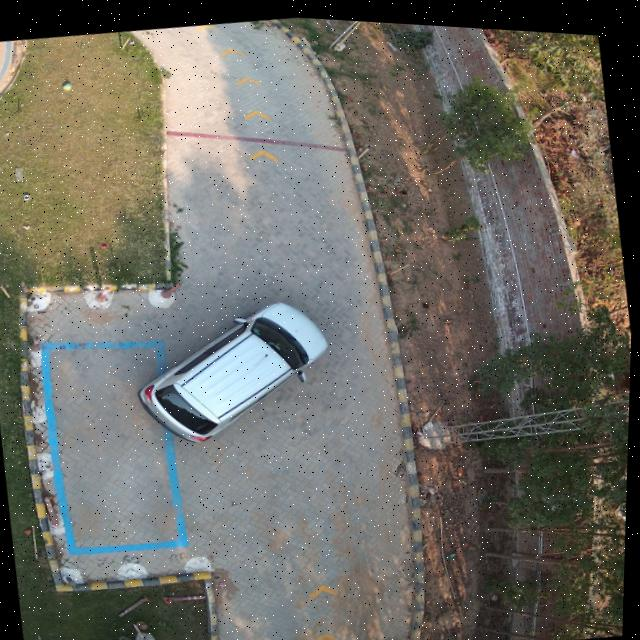car: (140, 299, 329, 440)
